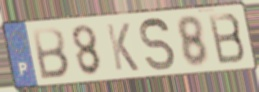8: (176, 13, 212, 70), (71, 23, 105, 78)
B: (206, 11, 248, 67), (30, 26, 71, 81)
K: (104, 22, 141, 73)
S: (138, 15, 177, 73)
